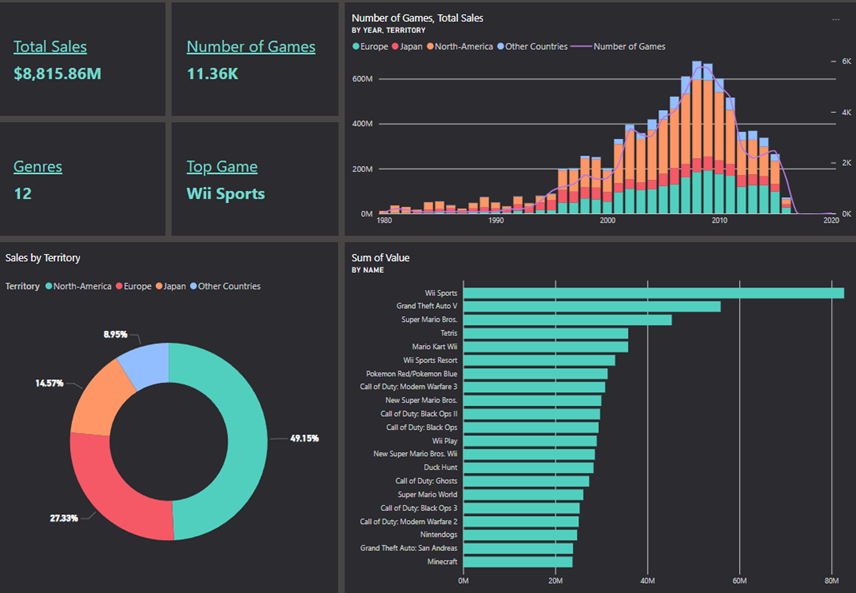

What the dashboard file says about the page in this screenshot:
{"tool":"powerbi","page":{"name":"Page 1","canvas":[1280,720],"ordinal":0},"visuals":[{"type":"slicer","title":"Year","fields":{"Values":["vgsales.Year"]},"box":[1005.1,0,274.9,131.9],"z":0},{"type":"decompositionTreeVisual","fields":{"ExplainBy":["vgsales.Publisher","vgsales.Platform","vgsales.Genre"],"Analyze":["vgsales.Total Sales"]},"box":[9.6,284.1,822,436.4],"z":1000},{"type":"donutChart","title":"Sales by Territory","fields":{"Category":["Territories.Territory"],"Y":["Sum(vgsales.Value)"]},"box":[832,375.6,448,345],"z":2000},{"type":"advancedSlicerVisual","fields":{"Values":["Territories.Territory"]},"box":[1005.1,131.9,274.9,228.9],"z":3000},{"type":"actionButton","box":[0,0,80.7,96],"z":4000},{"type":"textbox","box":[100,20,510,67.2],"z":5000},{"type":"image","box":[574.7,1.2,235.1,104.5],"z":6000},{"type":"cardVisual","fields":{"Data":["Count(vgsales.Name)"]},"box":[238.8,120.8,233.3,152.3],"z":7000},{"type":"cardVisual","fields":{"Data":["vgsales.Total Sales"]},"box":[9.6,120.8,234.7,152.3],"z":8000},{"type":"cardVisual","fields":{"Data":["Count(vgsales.Genre)"]},"box":[472,120.8,156.4,152.3],"z":9000},{"type":"cardVisual","fields":{"Data":["vgsales.Top Game"]},"box":[628.5,122.1,233.3,152.3],"z":10000}]}

Visuals, with their boxes on the page's 1280x720 design canvas (x1, y1, x2, y2). These are canvas units, not pixel positions in the 856x593 screenshot, which may show the page scaled, cropped or inside an application window:
"Year" slicer: 1005, 0, 1280, 132
decompositionTreeVisual - vgsales.Publisher x vgsales.Platform: 10, 284, 832, 720
"Sales by Territory" donutChart: 832, 376, 1280, 721
advancedSlicerVisual - Territories.Territory: 1005, 132, 1280, 361
actionButton: 0, 0, 81, 96
textbox: 100, 20, 610, 87
image: 575, 1, 810, 106
cardVisual - Count(vgsales.Name): 239, 121, 472, 273
cardVisual - vgsales.Total Sales: 10, 121, 244, 273
cardVisual - Count(vgsales.Genre): 472, 121, 628, 273
cardVisual - vgsales.Top Game: 628, 122, 862, 274
